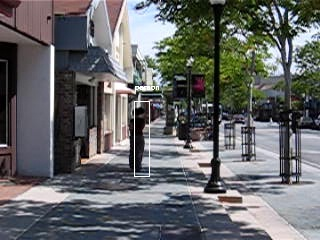person: (127, 107, 148, 173), (126, 107, 147, 173), (128, 107, 149, 173), (127, 106, 148, 172), (127, 108, 148, 174)
target_negative: (60, 163, 239, 231), (46, 183, 211, 195), (57, 102, 83, 171), (292, 82, 316, 104), (275, 183, 284, 239)
